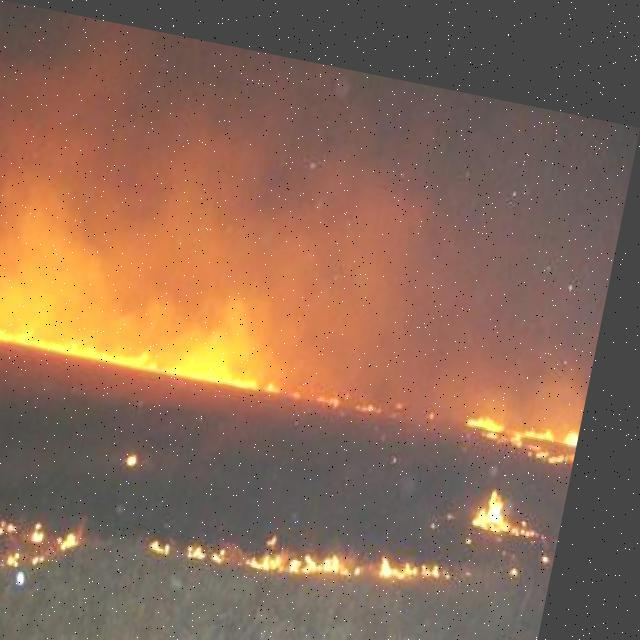Fire: (0, 292, 592, 440), (164, 491, 471, 587), (0, 499, 107, 592), (484, 463, 569, 518)
